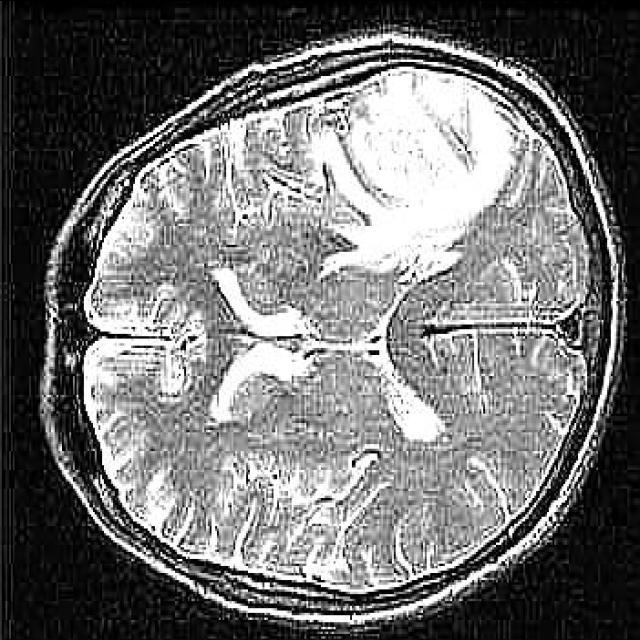tumor: (315, 63, 521, 277)
